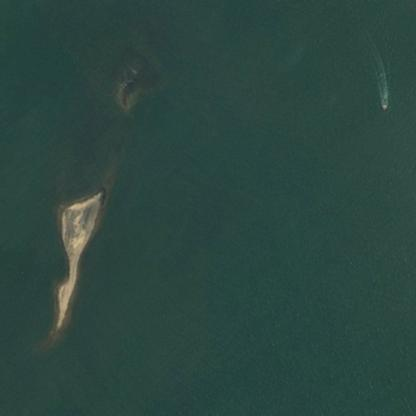ship: (374, 91, 392, 113)
